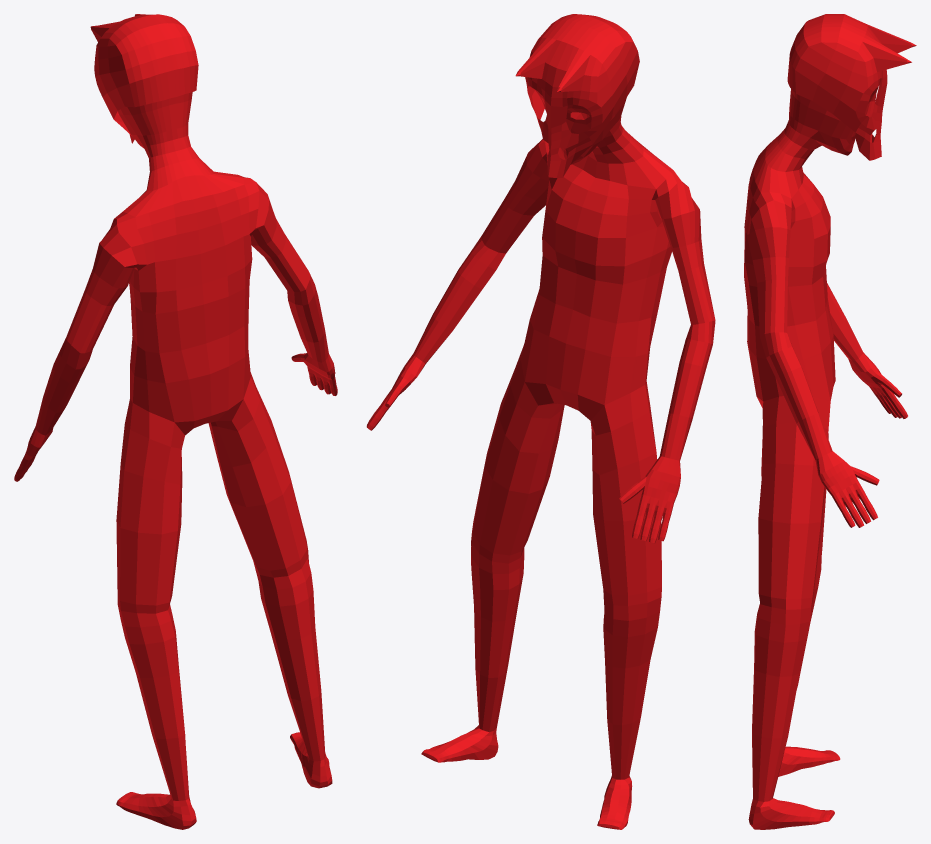
The model's file is reposoE_000287.obj.
The picture shows the model from 3 angles, left to right: view 1: azimuth 30°, elevation 25°; view 2: azimuth 150°, elevation 25°; view 3: azimuth 270°, elevation 25°; orthographic projection. The views are drawn at different scales.
Parts seen in each view (by area): view 1: Plane.002_Plane.001; view 2: Plane.002_Plane.001; view 3: Plane.002_Plane.001.
Boxes of the visible parts, x1,y1,x2,y2 form: Plane.002_Plane.001: [14, 14, 337, 829]; Plane.002_Plane.001: [366, 14, 715, 829]; Plane.002_Plane.001: [744, 14, 916, 829].
Size of the model in its own units: 2.91 by 7.17 by 1.49.
